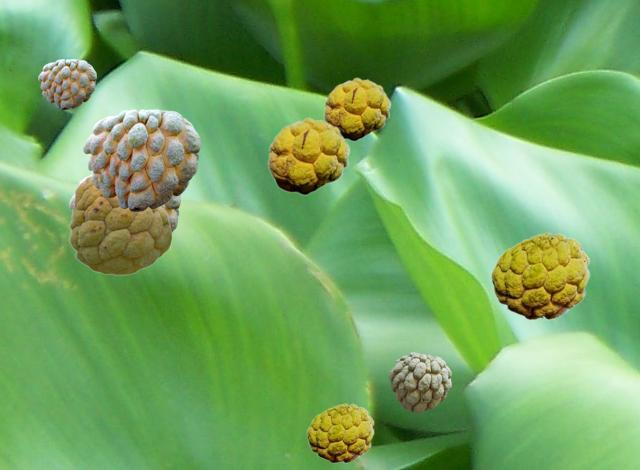atis: (83, 109, 199, 210), (68, 176, 171, 274), (490, 232, 589, 319), (69, 174, 179, 233), (267, 117, 349, 194), (323, 77, 390, 140), (306, 403, 373, 462), (389, 352, 450, 411), (38, 59, 95, 108)
